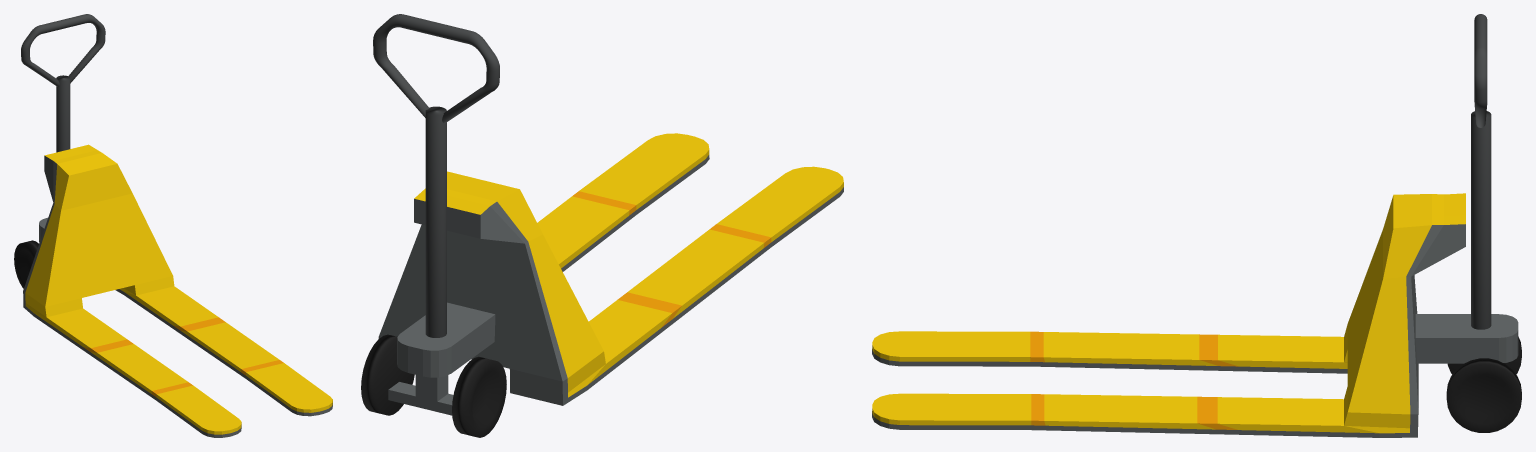
Rendered from PortaTransporte.fbx.
3 renders of one model, left to right at view 1: azimuth 30°, elevation 25°; view 2: azimuth 150°, elevation 25°; view 3: azimuth 270°, elevation 25°, orthographic. The views are drawn at different scales.
Visible parts, largest first — view 1: Base, aGGARE1, AgareLargo, rueda1; view 2: Base, Macanic, rueda1, AgareLargo, aGGARE1; view 3: Base, rueda1, Macanic, AgareLargo, aGGARE1.
Boxes of the visible parts, x1=… form: Base: x1=23, y1=144, x2=332, y2=437; aGGARE1: x1=21, y1=14, x2=105, y2=86; AgareLargo: x1=56, y1=75, x2=70, y2=152; rueda1: x1=14, y1=240, x2=38, y2=288; Base: x1=378, y1=133, x2=843, y2=405; Macanic: x1=388, y1=302, x2=495, y2=415; rueda1: x1=361, y1=334, x2=506, y2=437; AgareLargo: x1=425, y1=106, x2=446, y2=337; aGGARE1: x1=373, y1=14, x2=499, y2=123; Base: x1=872, y1=193, x2=1465, y2=437; rueda1: x1=1446, y1=336, x2=1521, y2=432; Macanic: x1=1415, y1=314, x2=1518, y2=363; AgareLargo: x1=1471, y1=111, x2=1491, y2=329; aGGARE1: x1=1474, y1=14, x2=1487, y2=127.
Size of the model in its own units: 81.59 by 161 by 252.
